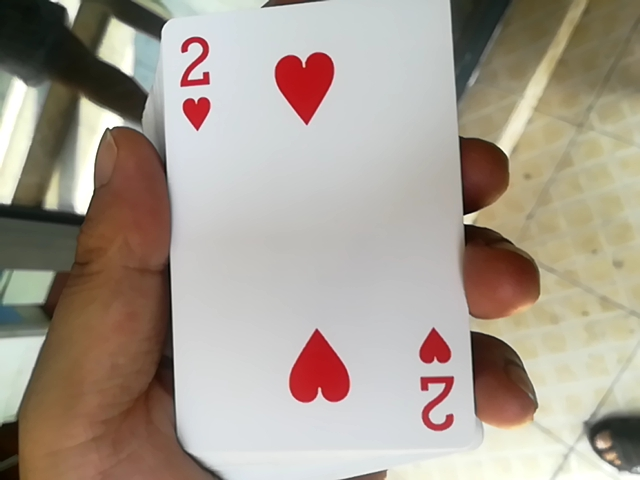hx 2: (138, 3, 464, 461)
